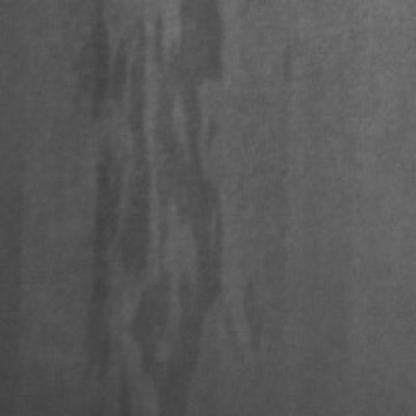inclusion: (77, 0, 224, 410)
